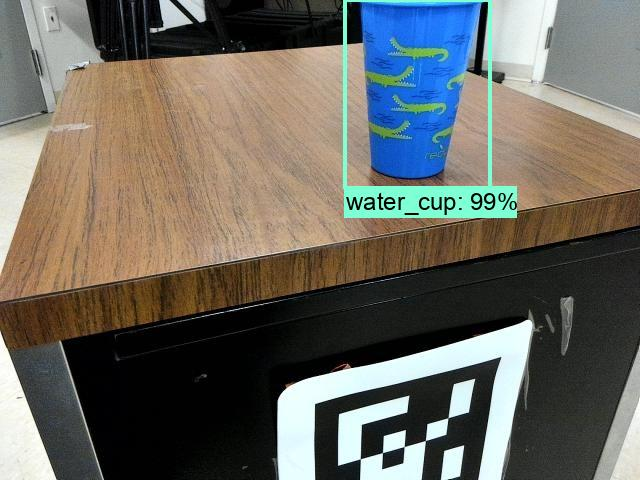water_cup: (353, 1, 487, 188)
